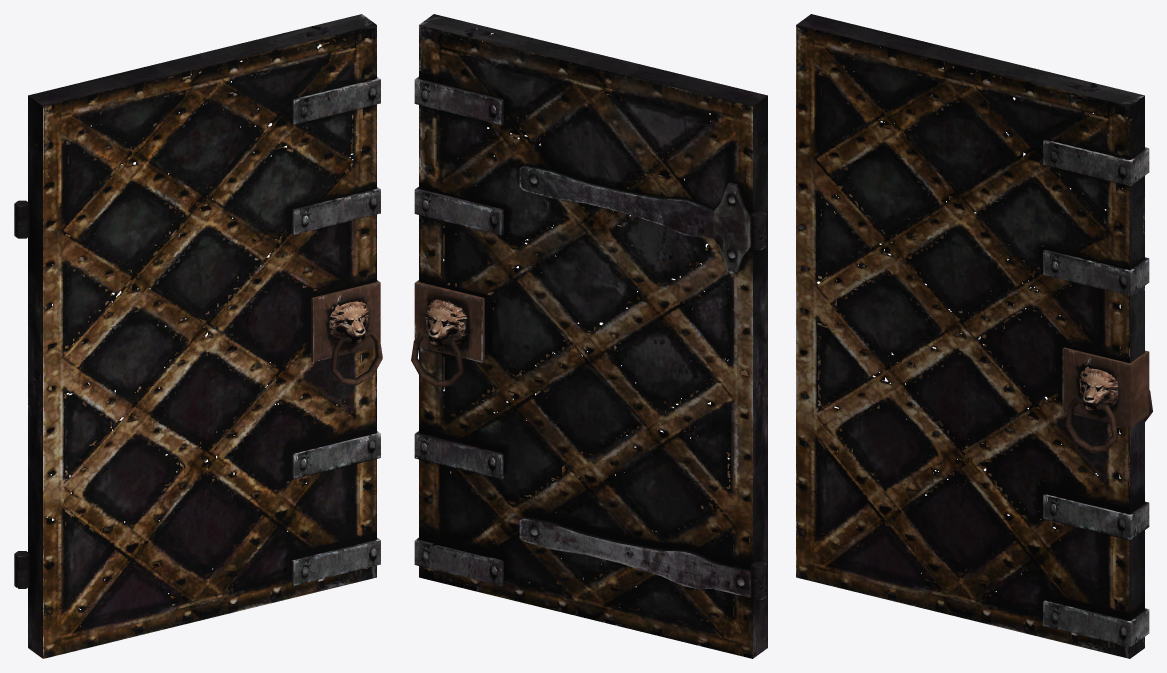
File: metal_broken.dae
The picture shows the model from 3 angles, left to right: view 1: azimuth 30°, elevation 25°; view 2: azimuth 150°, elevation 25°; view 3: azimuth 330°, elevation 25°; orthographic projection.
Parts seen in each view (by area): view 1: group1; view 2: group1; view 3: group1.
Boxes of the visible parts, left/top/right/bottom form: group1: left=14, top=14, right=382, bottom=658; group1: left=411, top=14, right=767, bottom=658; group1: left=796, top=14, right=1152, bottom=658.
Bounding box in the file's own units: 1.81 × 0.4127 × 2.74.
